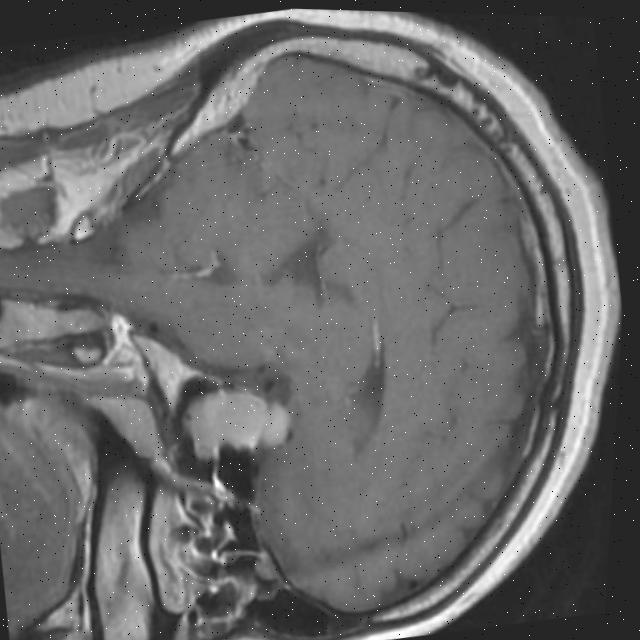Pituitary: (176, 377, 300, 466)
